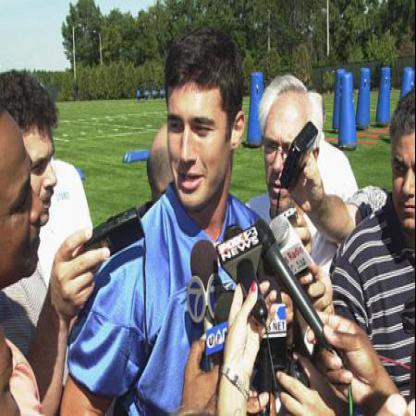face: (163, 46, 234, 210), (3, 91, 67, 231), (261, 84, 315, 216)
